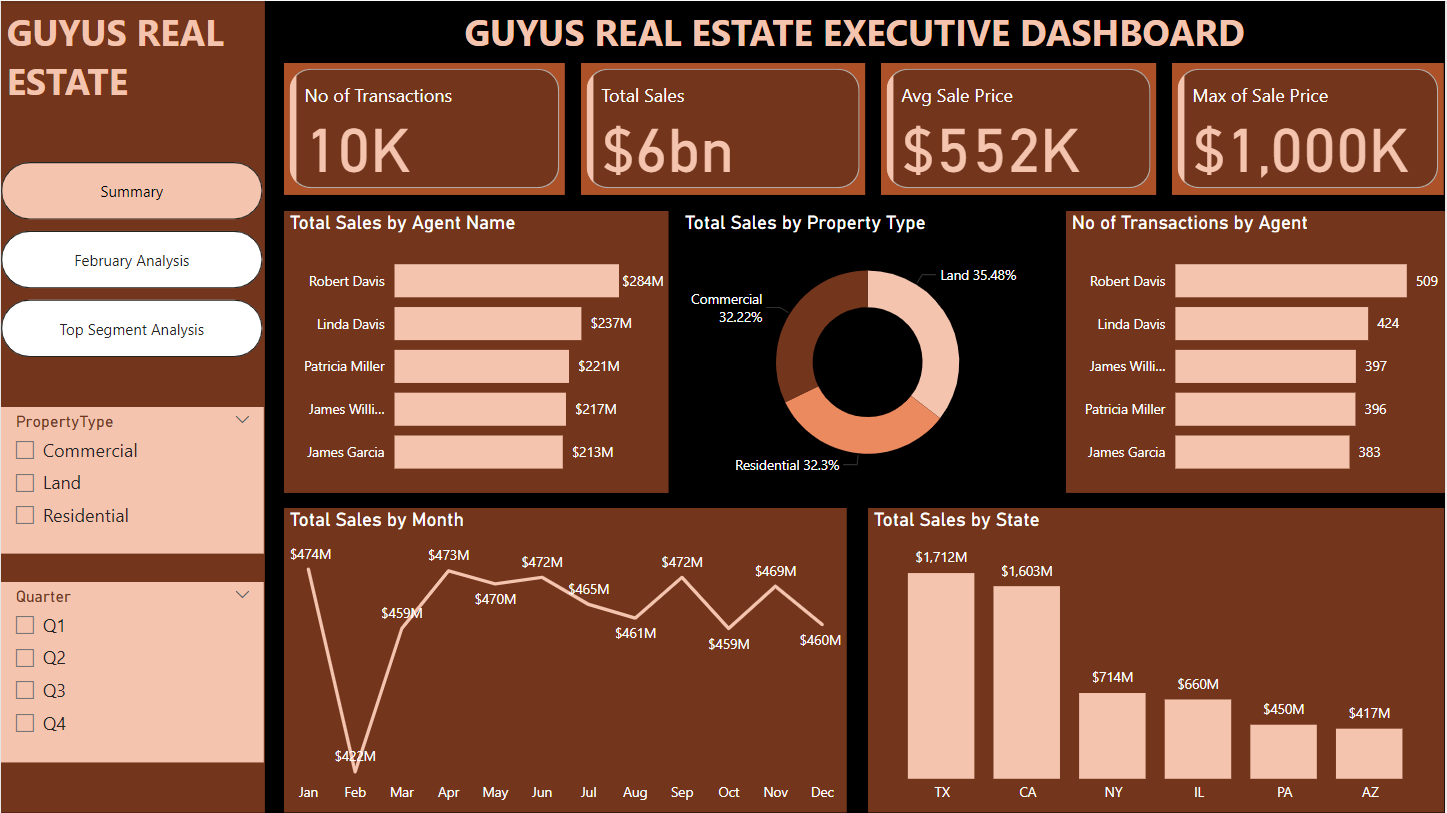

The dashboard page shown, as its layout file describes it:
{"tool":"powerbi","page":{"name":"Summary","canvas":[1280,720],"ordinal":0},"visuals":[{"type":"shape","box":[0,0,234.4,719.8],"z":0},{"type":"textbox","box":[0,0,234.4,109.9],"z":1000},{"type":"textbox","box":[234.4,0,1045.6,55.4],"z":2000},{"type":"cardVisual","fields":{"Data":["Calculations.Total Sales"]},"box":[514.5,55.3,252,116.8],"z":3000},{"type":"cardVisual","fields":{"Data":["Calculations.No of Transactions"]},"box":[251.1,55.3,249.4,116.8],"z":4000},{"type":"cardVisual","fields":{"Data":["Calculations.Avg Sale Price"]},"box":[780.6,55.3,244.1,116.8],"z":5000},{"type":"clusteredBarChart","title":"Total Sales by Agent Name","fields":{"Category":["Agent Dim.AgentName"],"Y":["Calculations.Total Sales"]},"box":[250.9,185.8,341.4,250],"z":6000},{"type":"clusteredBarChart","fields":{"Category":["Agent Dim.AgentName"],"Y":["Calculations.No of Transactions"]},"box":[944.4,185.8,335.6,250],"z":7000},{"type":"donutChart","fields":{"Y":["Calculations.Total Sales"],"Category":["Property Dim.PropertyType"]},"box":[601.5,186.1,334.5,249.4],"z":8000},{"type":"lineChart","fields":{"Category":["Calendar Dim.Month Name"],"Y":["Calculations.Total Sales"]},"box":[251.1,449.6,498.7,270.4],"z":9000},{"type":"columnChart","fields":{"Category":["Location Dim.State"],"Y":["Calculations.Total Sales"]},"box":[769.2,449.6,511,270.4],"z":10000},{"type":"slicer","fields":{"Values":["Calendar Dim.Quarter"]},"box":[0,515.4,232.7,159.8],"z":11000},{"type":"slicer","fields":{"Values":["Property Dim.PropertyType"]},"box":[0,360,232.7,130],"z":12000},{"type":"cardVisual","fields":{"Data":["Transaction.SalePrice"]},"box":[1038.5,55.3,241.5,116.8],"z":13000},{"type":"pageNavigator","box":[0,142.8,232.3,175.6],"z":14000}]}

Visuals, with their boxes in screenshot pixels (x1, y1, x2, y2), scaled from the page's 1280x720 canvas onto the 1447x813 screenshot:
shape: (0, 0, 265, 812)
textbox: (0, 0, 265, 124)
textbox: (265, 0, 1446, 63)
cardVisual - Calculations.Total Sales: (582, 62, 867, 194)
cardVisual - Calculations.No of Transactions: (284, 62, 566, 194)
cardVisual - Calculations.Avg Sale Price: (882, 62, 1158, 194)
"Total Sales by Agent Name" clusteredBarChart: (284, 210, 670, 492)
clusteredBarChart - Agent Dim.AgentName x Calculations.No of Transactions: (1068, 210, 1446, 492)
donutChart - Calculations.Total Sales x Property Dim.PropertyType: (680, 210, 1058, 492)
lineChart - Calendar Dim.Month Name x Calculations.Total Sales: (284, 508, 848, 812)
columnChart - Location Dim.State x Calculations.Total Sales: (870, 508, 1446, 812)
slicer - Calendar Dim.Quarter: (0, 582, 263, 762)
slicer - Property Dim.PropertyType: (0, 406, 263, 553)
cardVisual - Transaction.SalePrice: (1174, 62, 1446, 194)
pageNavigator: (0, 161, 263, 360)
